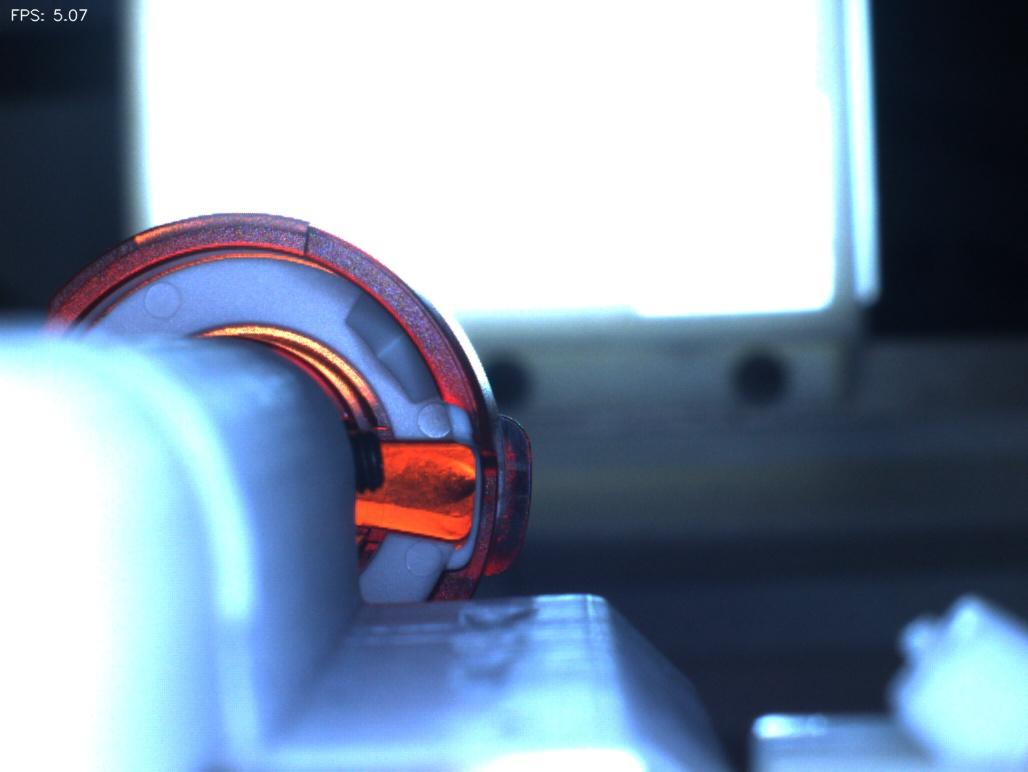Retassure: (383, 447, 482, 526)
